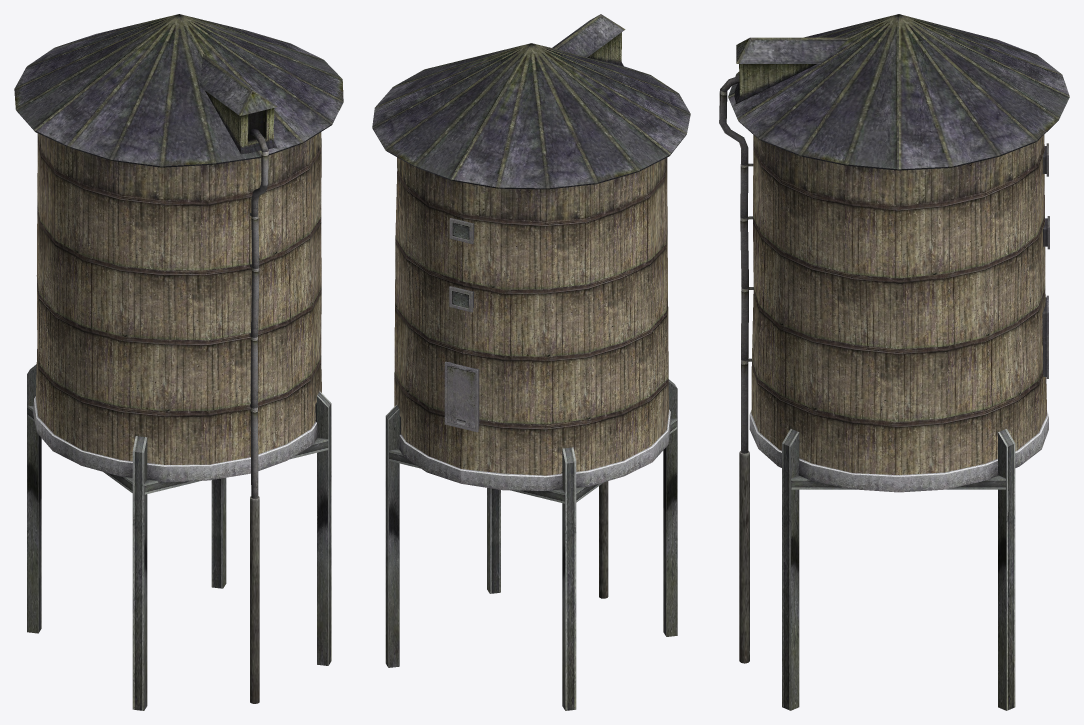
3 renders of one model, left to right at view 1: azimuth 30°, elevation 25°; view 2: azimuth 150°, elevation 25°; view 3: azimuth 270°, elevation 25°, orthographic. The views are drawn at different scales.
Visible parts, largest first — view 1: b12; view 2: b12; view 3: b12.
Part boxes in pixels (left/top/right/bottom): b12: left=14, top=14, right=343, bottom=710; b12: left=372, top=14, right=690, bottom=710; b12: left=719, top=14, right=1069, bottom=710.
Bounding box in the file's own units: 6.62 × 13.82 × 6.79.
1 material, 1 textured.
